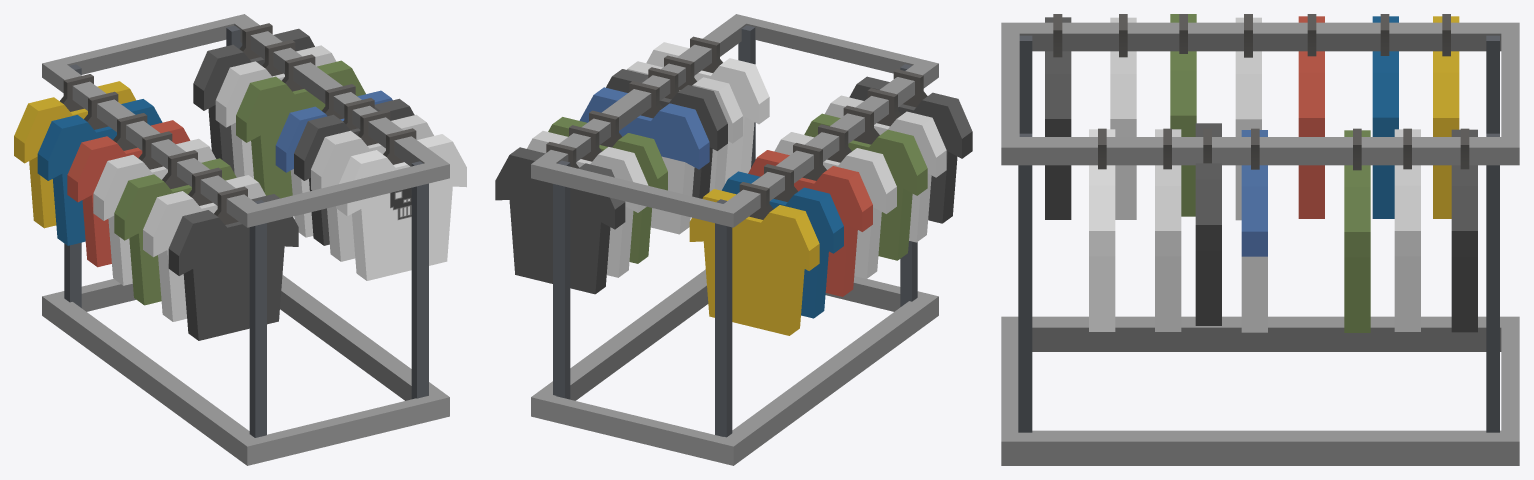
The model's file is ClothesRack2.glb.
3 views of the same model, side by side, from view 1: azimuth 30°, elevation 25°; view 2: azimuth 150°, elevation 25°; view 3: azimuth 270°, elevation 25° (orthographic). The views are drawn at different scales.
Visible parts, largest first — view 1: SI_Prop_ClothesRack_03; view 2: SI_Prop_ClothesRack_03; view 3: SI_Prop_ClothesRack_03.
Boxes of the visible parts, box(x1,y1,x2,y2) form: SI_Prop_ClothesRack_03: box(14, 14, 466, 465); SI_Prop_ClothesRack_03: box(495, 14, 972, 465); SI_Prop_ClothesRack_03: box(1001, 14, 1519, 465).
Bounding box in the file's own units: 0.0274 × 0.0216 × 0.0314.
1 material, 1 textured.
